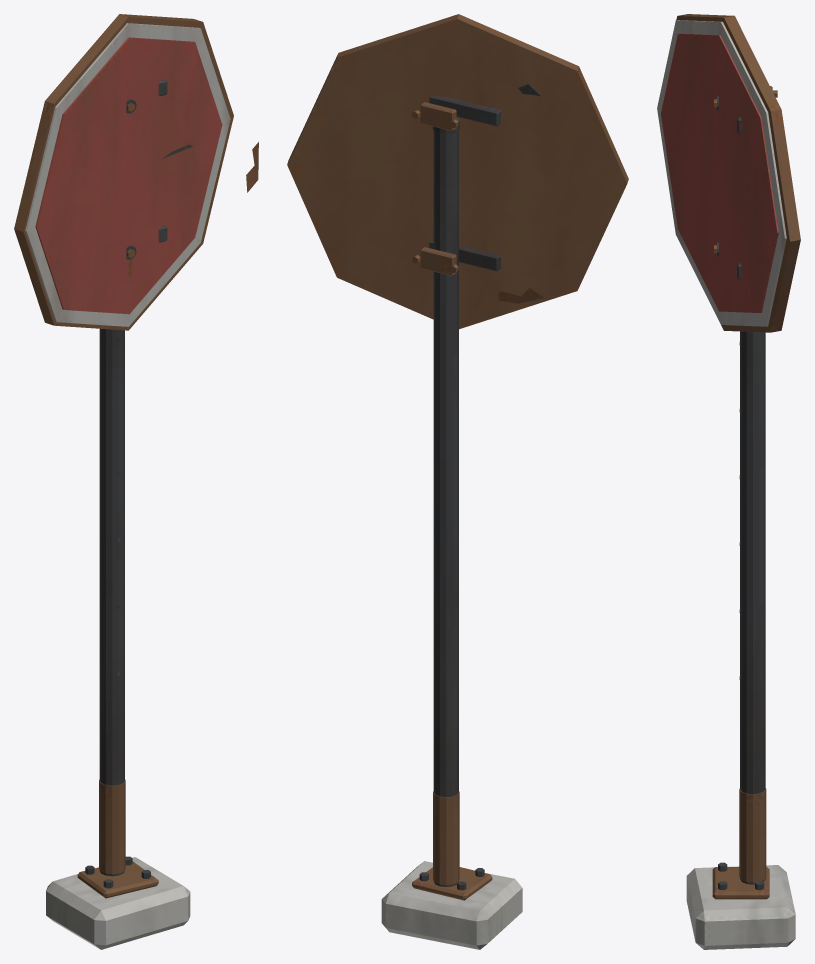
The model's file is R06_road_sign_post.glb.
3 views of the same model, side by side, from view 1: azimuth 30°, elevation 25°; view 2: azimuth 150°, elevation 25°; view 3: azimuth 270°, elevation 25° (orthographic).
Visible parts, largest first — view 1: Old concrete footing; view 2: Old concrete footing; view 3: Old concrete footing.
Boxes of the visible parts, left/top/right/bottom form: Old concrete footing: left=14, top=14, right=258, bottom=949; Old concrete footing: left=287, top=14, right=628, bottom=949; Old concrete footing: left=657, top=14, right=800, bottom=949.
Bounding box in the file's own units: 0.9666 × 3 × 0.4297.
Materials: 6 (6 with a texture image).
